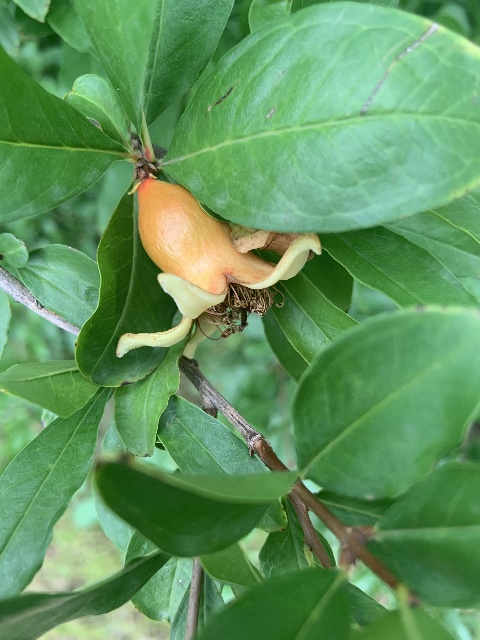early-fruit: (115, 179, 323, 358)
